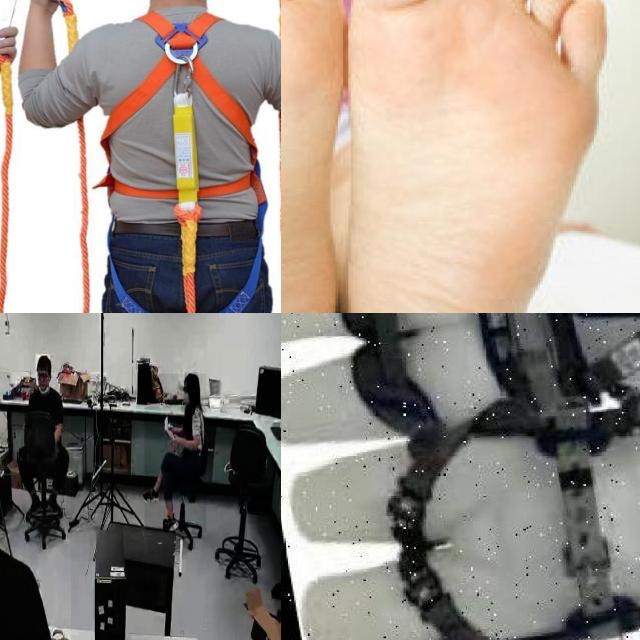Barefoots: (343, 0, 617, 313)
Harness: (372, 341, 640, 640), (95, 10, 270, 313), (324, 313, 640, 448)
face_mask: (181, 386, 195, 413)
face_nomask: (36, 371, 50, 390)
hand_noglove: (169, 432, 180, 446)
head_nohelmet: (35, 354, 51, 370), (184, 372, 200, 386)
person: (0, 372, 71, 640), (145, 374, 207, 534), (24, 355, 69, 491)
shoes: (44, 488, 64, 520), (23, 491, 41, 519), (142, 482, 160, 506)
